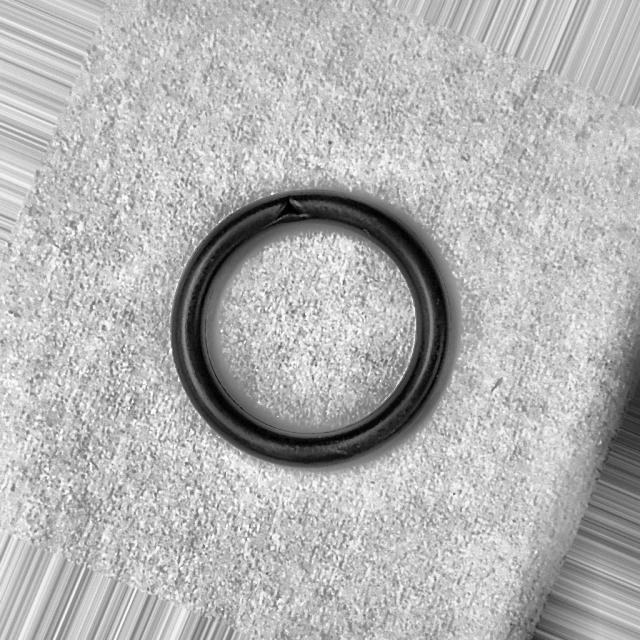切割缺陷: (258, 191, 314, 232)
